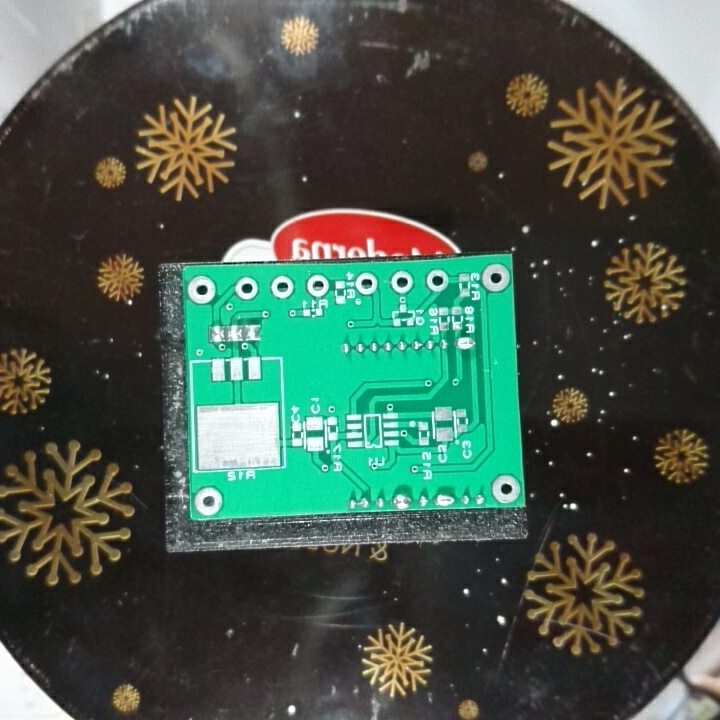F: (192, 485, 225, 519), (490, 472, 522, 505), (479, 260, 510, 294), (185, 275, 217, 306), (231, 275, 261, 301), (268, 274, 296, 301), (303, 274, 332, 299), (425, 267, 451, 293), (388, 269, 413, 295), (354, 271, 379, 296)
P: (433, 489, 458, 510), (391, 490, 414, 512), (454, 332, 477, 353)
